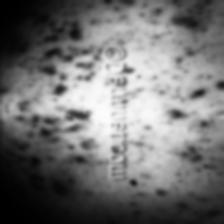Non-Cancerous Skin Condition: (22, 12, 102, 200), (156, 62, 224, 136), (133, 184, 224, 224), (138, 0, 224, 40), (9, 46, 17, 50)
